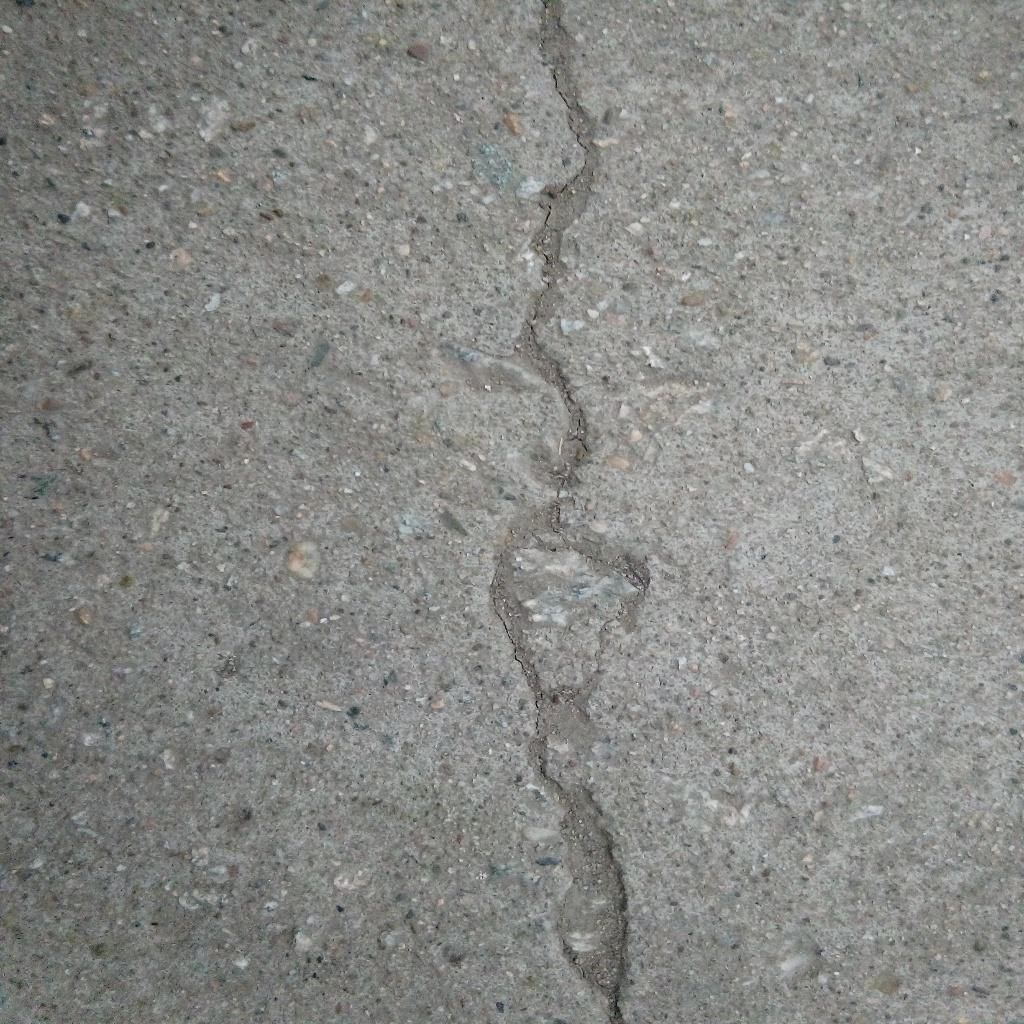Crack: (489, 1, 652, 1024)
